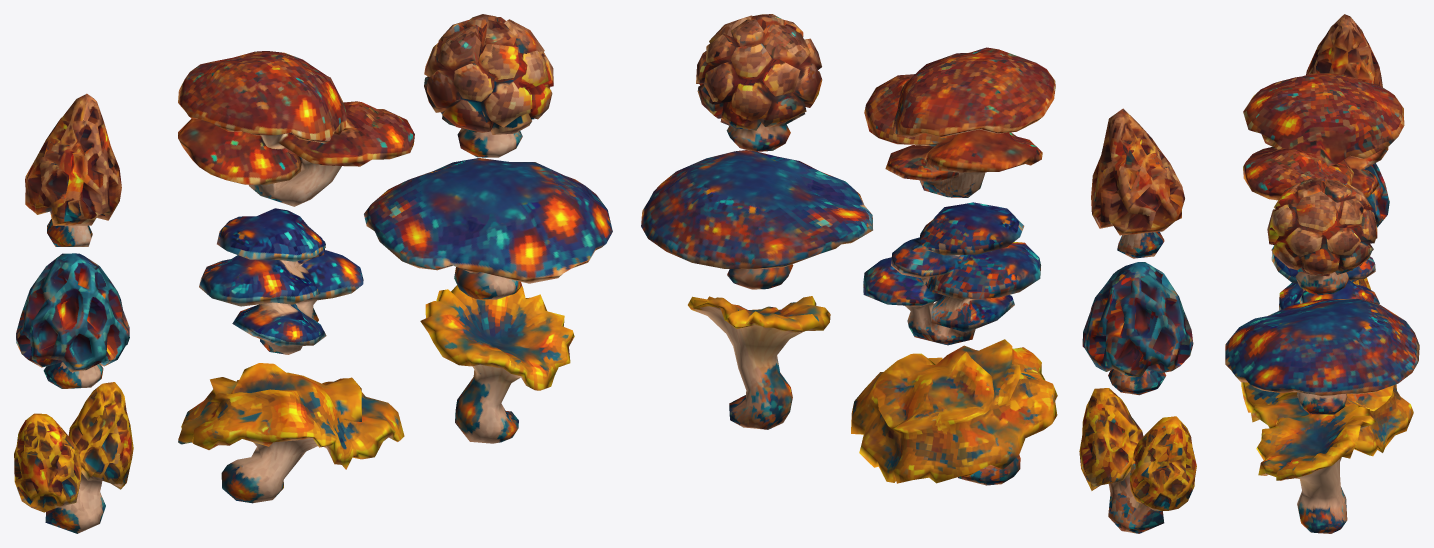
The model's file is mushroom_pack.glb.
3 renders of one model, left to right at view 1: azimuth 30°, elevation 25°; view 2: azimuth 150°, elevation 25°; view 3: azimuth 270°, elevation 25°, orthographic. The views are drawn at different scales.
Visible parts, largest first — view 1: tripo_node_f05f0ea1-bf7c-4b9e-91db-6b0674580649; view 2: tripo_node_f05f0ea1-bf7c-4b9e-91db-6b0674580649; view 3: tripo_node_f05f0ea1-bf7c-4b9e-91db-6b0674580649.
Boxes of the visible parts, x1=… form: tripo_node_f05f0ea1-bf7c-4b9e-91db-6b0674580649: x1=14, y1=14, x2=612, y2=533; tripo_node_f05f0ea1-bf7c-4b9e-91db-6b0674580649: x1=641, y1=14, x2=1196, y2=533; tripo_node_f05f0ea1-bf7c-4b9e-91db-6b0674580649: x1=1225, y1=14, x2=1419, y2=533.
Size of the model in its own units: 0.98 by 0.7147 by 0.3528.
1 material, 1 textured.
